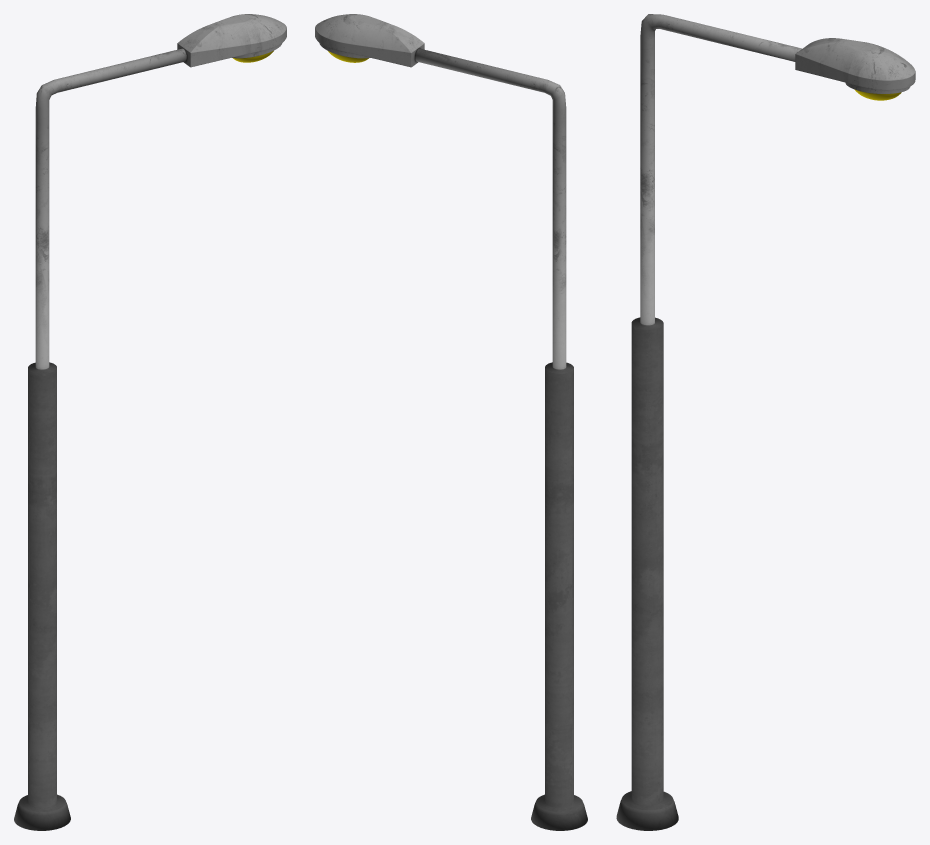
Rendered from StreetLight.gltf.
3 renders of one model, left to right at view 1: azimuth 30°, elevation 25°; view 2: azimuth 150°, elevation 25°; view 3: azimuth 330°, elevation 25°, orthographic. The views are drawn at different scales.
Parts seen in each view (by area): view 1: StreetLightBody_low, StreetLightHead_low; view 2: StreetLightBody_low, StreetLightHead_low; view 3: StreetLightBody_low, StreetLightHead_low.
Boxes of the visible parts, box(x1,y1,x2,y2) form: StreetLightBody_low: box(14, 48, 186, 830); StreetLightHead_low: box(177, 14, 286, 67); StreetLightBody_low: box(415, 48, 587, 830); StreetLightHead_low: box(315, 14, 424, 67); StreetLightBody_low: box(616, 14, 801, 830); StreetLightHead_low: box(795, 38, 915, 100).
Bounding box in the file's own units: 3.31 × 8.93 × 0.5959.
5 materials, 5 textured.
